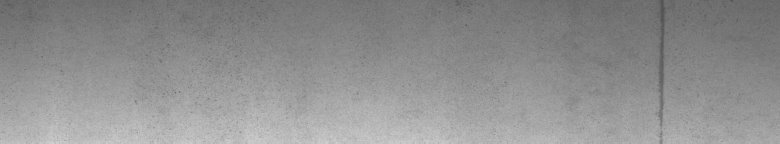hd: (655, 4, 669, 136)
